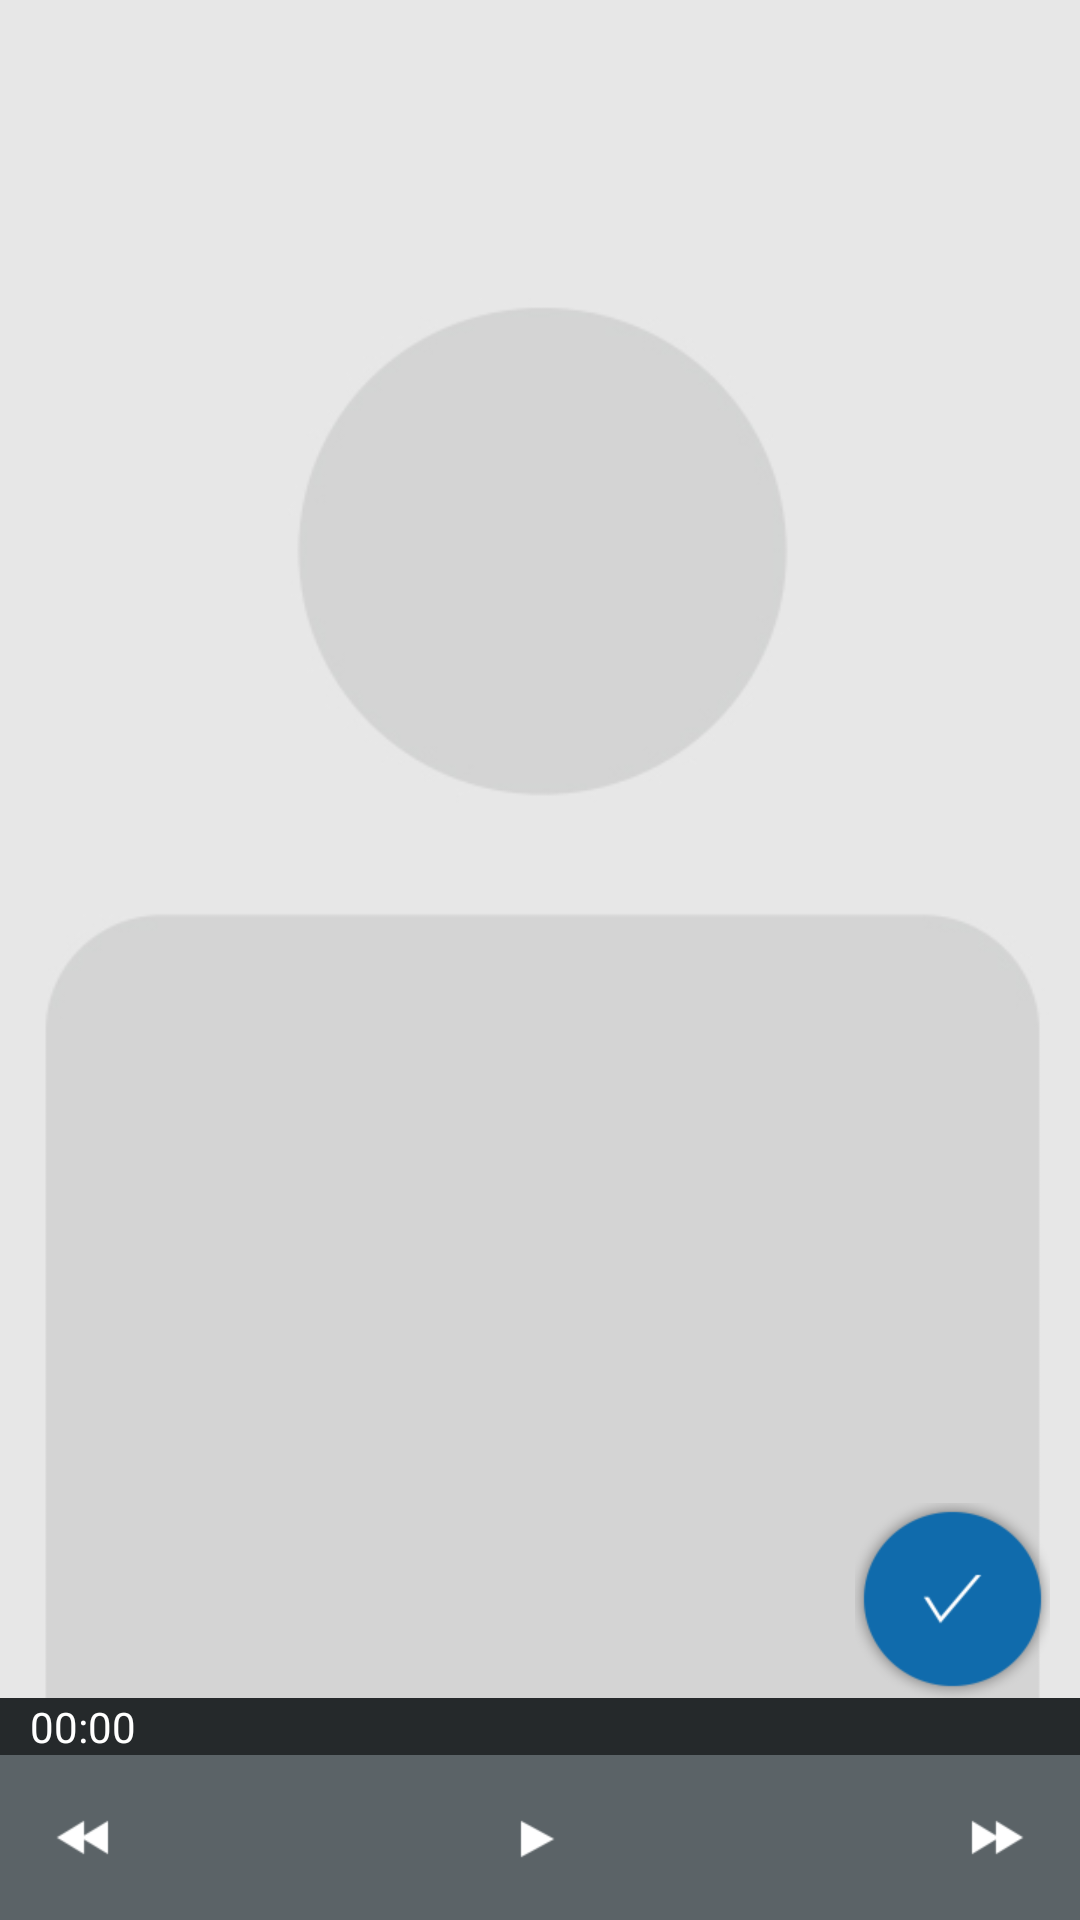

Icons on this 1080w x 1920h Android screen, each with its box as [x1, y1, x2, y2]:
next: [971, 1821, 1023, 1854]
play: [520, 1821, 554, 1857]
prev: [57, 1821, 109, 1854]
